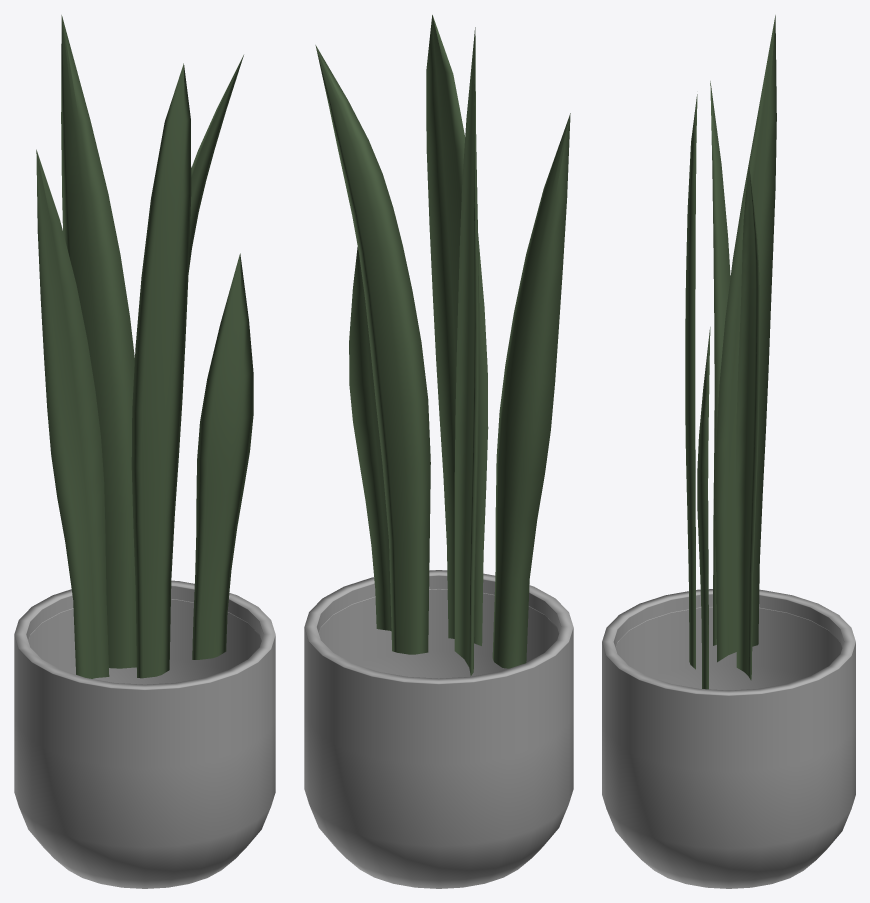
File: smplant.glb
The picture shows the model from 3 angles, left to right: view 1: azimuth 30°, elevation 25°; view 2: azimuth 150°, elevation 25°; view 3: azimuth 270°, elevation 25°; orthographic projection. The views are drawn at different scales.
Parts seen in each view (by area): view 1: Object_6.001; view 2: Object_6.001; view 3: Object_6.001.
Part boxes in pixels (bbox=[...]): Object_6.001: bbox=[14, 15, 275, 888]; Object_6.001: bbox=[304, 15, 573, 888]; Object_6.001: bbox=[602, 15, 855, 888].
Size of the model in its own units: 0.1966 by 0.6774 by 0.1923.
